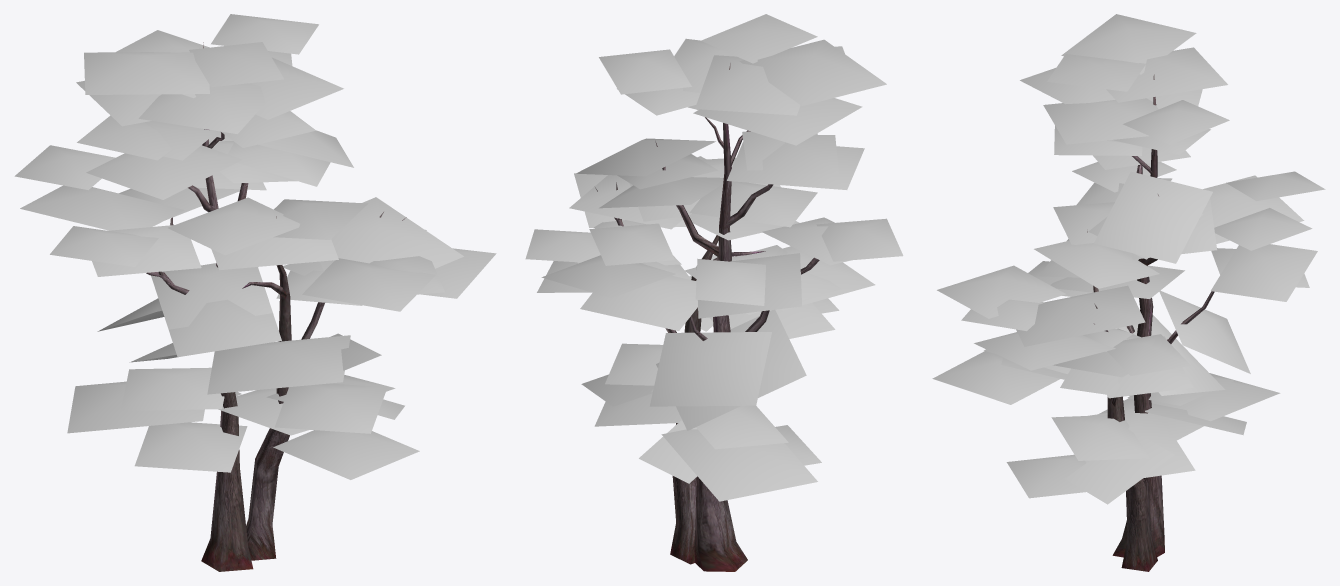
Rendered from GZ_Xsc_shu_01_D.FBX.
3 renders of one model, left to right at view 1: azimuth 30°, elevation 25°; view 2: azimuth 150°, elevation 25°; view 3: azimuth 270°, elevation 25°, orthographic. The views are drawn at different scales.
Parts seen in each view (by area): view 1: GZ_Xsc_shuye_01_D, GZ_Xsc_shugan_01_D; view 2: GZ_Xsc_shuye_01_D, GZ_Xsc_shugan_01_D; view 3: GZ_Xsc_shuye_01_D, GZ_Xsc_shugan_01_D.
Part boxes in pixels (bbox=[...]): GZ_Xsc_shuye_01_D: bbox=[14, 14, 496, 479]; GZ_Xsc_shugan_01_D: bbox=[146, 42, 406, 571]; GZ_Xsc_shuye_01_D: bbox=[525, 14, 903, 501]; GZ_Xsc_shugan_01_D: bbox=[595, 63, 819, 571]; GZ_Xsc_shuye_01_D: bbox=[932, 14, 1325, 504]; GZ_Xsc_shugan_01_D: bbox=[1087, 74, 1214, 571].
Bounding box in the file's own units: 13.16 × 17.07 × 12.58.
